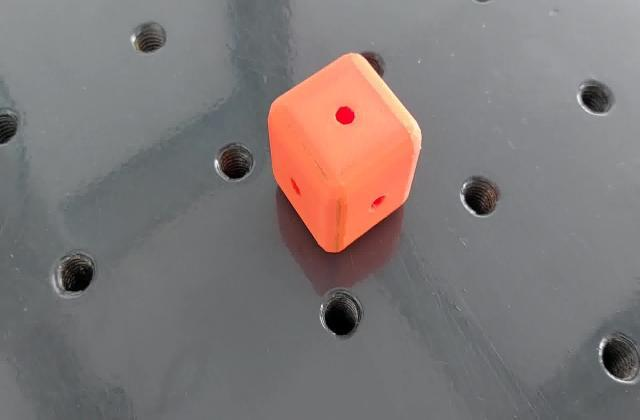cube: (264, 50, 428, 260)
